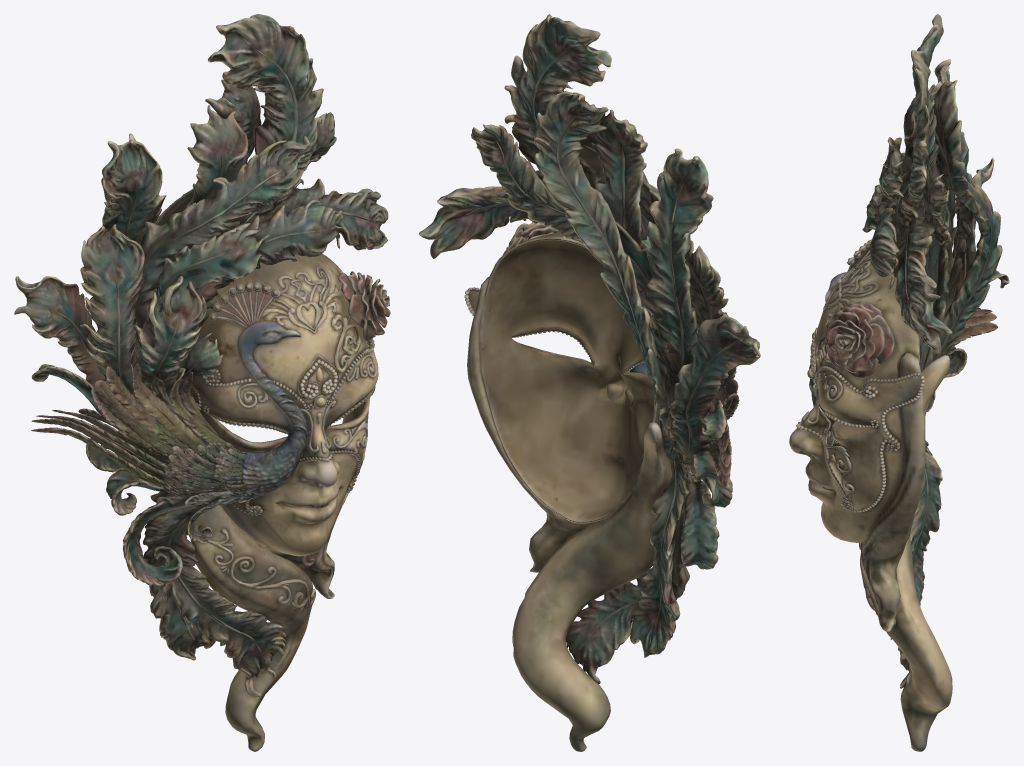
Rendered from maske.glb.
3 renders of one model, left to right at view 1: azimuth 30°, elevation 25°; view 2: azimuth 150°, elevation 25°; view 3: azimuth 270°, elevation 25°, orthographic.
Parts seen in each view (by area): view 1: yumao3_low_lambert3_0, yumao3_low_lambert2_0, yumao3_low_lambert1_0, yumao3_low_lambert4_0, zhu_low_lambert5_0; view 2: yumao3_low_lambert1_0, yumao3_low_lambert4_0, yumao3_low_lambert3_0, yumao3_low_lambert2_0; view 3: yumao3_low_lambert1_0, yumao3_low_lambert4_0, yumao3_low_lambert2_0, yumao3_low_lambert3_0, zhu_low_lambert5_0.
Part boxes in pixels (box(x1,y1,x2,y2)): yumao3_low_lambert3_0: box(14, 133, 286, 696); yumao3_low_lambert2_0: box(31, 266, 390, 610); yumao3_low_lambert1_0: box(186, 253, 378, 751); yumao3_low_lambert4_0: box(133, 14, 388, 378); zhu_low_lambert5_0: box(185, 338, 375, 515); yumao3_low_lambert1_0: box(467, 232, 671, 751); yumao3_low_lambert4_0: box(419, 14, 679, 460); yumao3_low_lambert3_0: box(566, 148, 760, 683); yumao3_low_lambert2_0: box(502, 222, 739, 569); yumao3_low_lambert1_0: box(789, 259, 952, 751); yumao3_low_lambert4_0: box(870, 14, 1002, 370); yumao3_low_lambert2_0: box(801, 239, 1009, 627); yumao3_low_lambert3_0: box(862, 59, 994, 688); zhu_low_lambert5_0: box(796, 332, 924, 512).
Bounding box in the file's own units: 0.0329 × 0.0648 × 0.0179.
5 materials, 5 textured.
